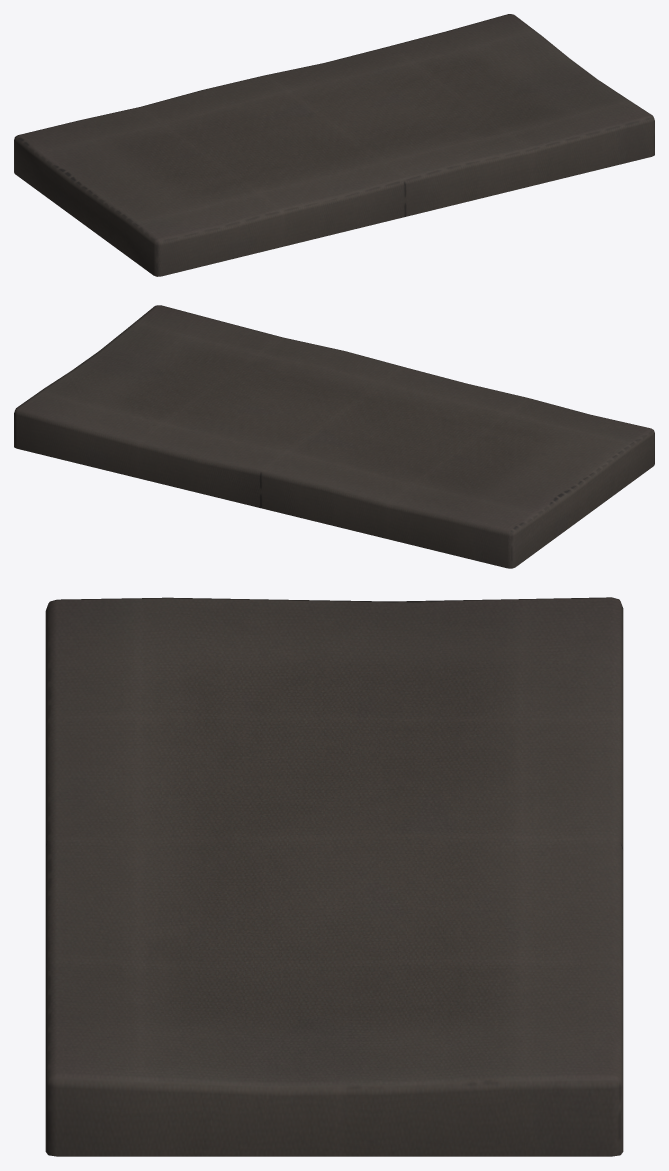
File: SM_Padding_01.fbx
3 renders of one model, top to bottom at view 1: azimuth 30°, elevation 25°; view 2: azimuth 150°, elevation 25°; view 3: azimuth 270°, elevation 25°, orthographic. The views are drawn at different scales.
Parts seen in each view (by area): view 1: SM_Padding_01_LOD0; view 2: SM_Padding_01_LOD0; view 3: SM_Padding_01_LOD0.
Boxes of the visible parts, left/top/right/bottom form: SM_Padding_01_LOD0: left=14, top=14, right=654, bottom=276; SM_Padding_01_LOD0: left=14, top=305, right=654, bottom=568; SM_Padding_01_LOD0: left=45, top=597, right=623, bottom=1156.
Bounding box in the file's own units: 100 × 50 × 7.55.
Materials: 1 (1 with a texture image).
